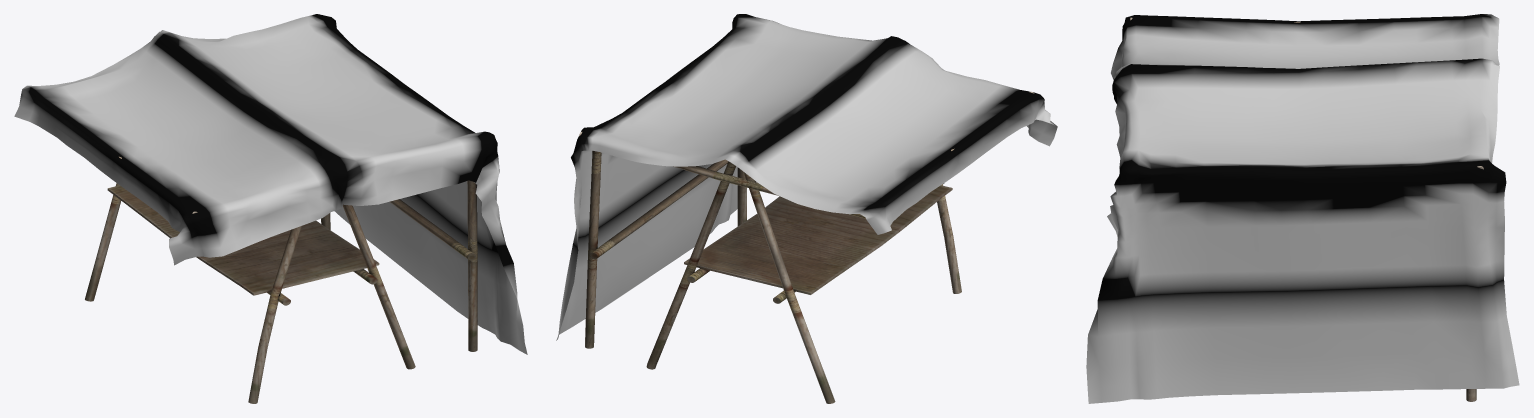
The model's file is SM_E12_Booth.fbx.
3 views of the same model, side by side, from view 1: azimuth 30°, elevation 25°; view 2: azimuth 150°, elevation 25°; view 3: azimuth 270°, elevation 25° (orthographic). The views are drawn at different scales.
Parts seen in each view (by area): view 1: SM_E12_Booth_LOD0; view 2: SM_E12_Booth_LOD0; view 3: SM_E12_Booth_LOD0.
Boxes of the visible parts, box(x1,y1,x2,y2) form: SM_E12_Booth_LOD0: box(14, 14, 527, 403); SM_E12_Booth_LOD0: box(556, 14, 1057, 403); SM_E12_Booth_LOD0: box(1086, 14, 1519, 403).
Bounding box in the file's own units: 321 × 329 × 218.
